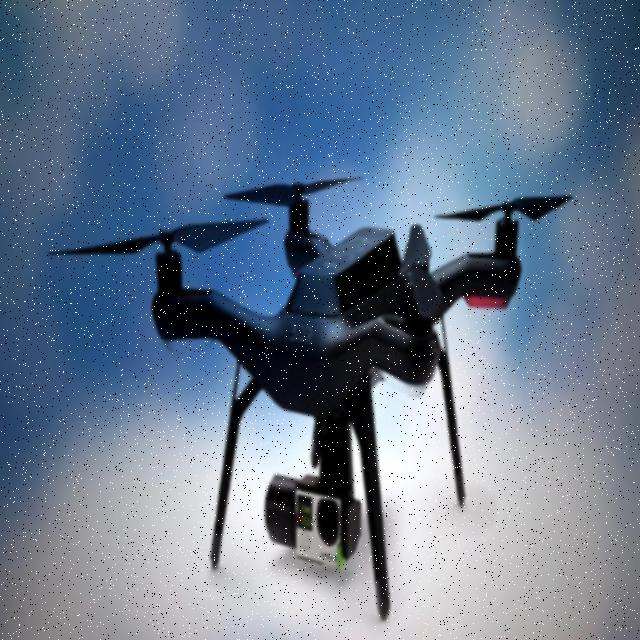UAV: (148, 170, 522, 623)
